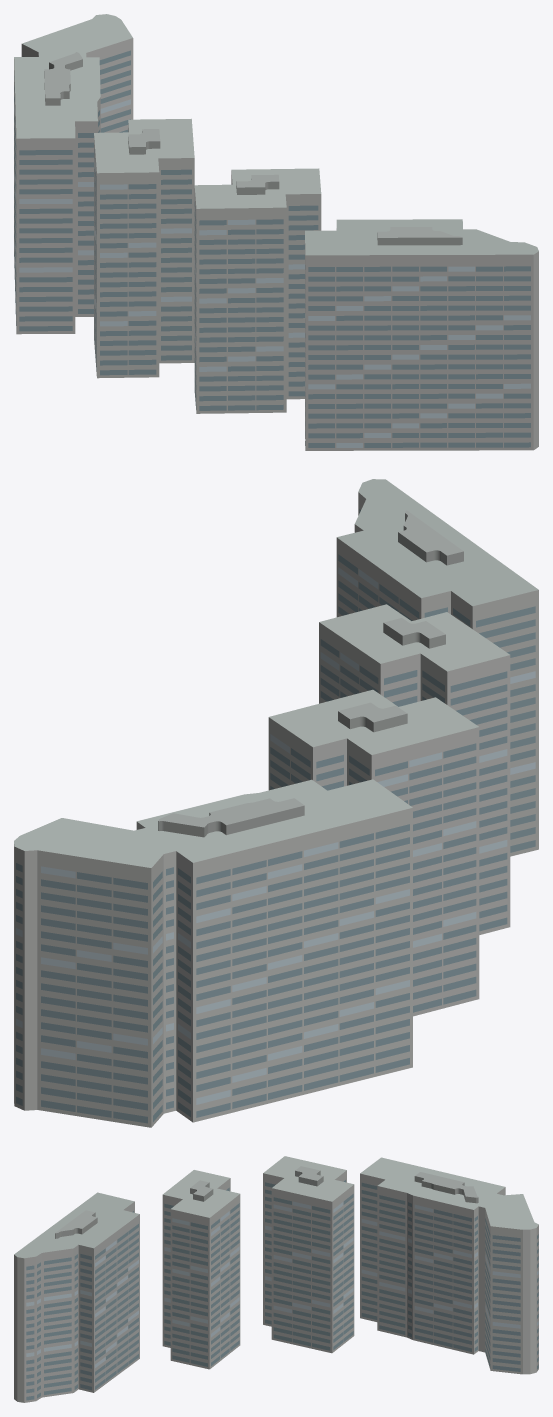
The model's file is apt-a12179004.glb.
3 views of the same model, one above another, from view 1: azimuth 30°, elevation 25°; view 2: azimuth 150°, elevation 25°; view 3: azimuth 270°, elevation 25° (orthographic). The views are drawn at different scales.
Parts seen in each view (by area): view 1: apt-a12179004; view 2: apt-a12179004; view 3: apt-a12179004.
Boxes of the visible parts, x1=… form: apt-a12179004: x1=14, y1=14, x2=538, y2=450; apt-a12179004: x1=14, y1=479, x2=538, y2=1127; apt-a12179004: x1=14, y1=1156, x2=538, y2=1402.
Size of the model in its own units: 93.6 by 68 by 206.
